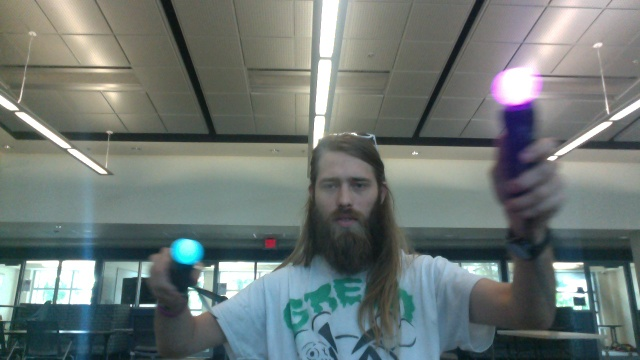wand: (493, 68, 542, 105), (172, 239, 203, 264)
